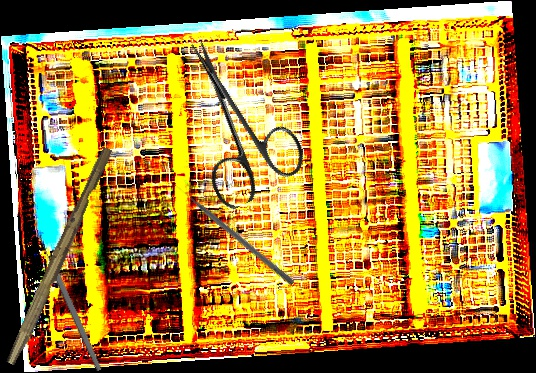Iris Scissors: (151, 21, 313, 214)
Pusher: (174, 182, 296, 286)
Scalpel Handle: (6, 144, 114, 369)
Surgical Spoon: (35, 234, 104, 372)
